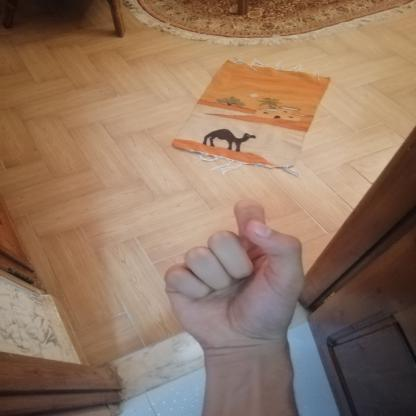FAA: (145, 192, 323, 363)
